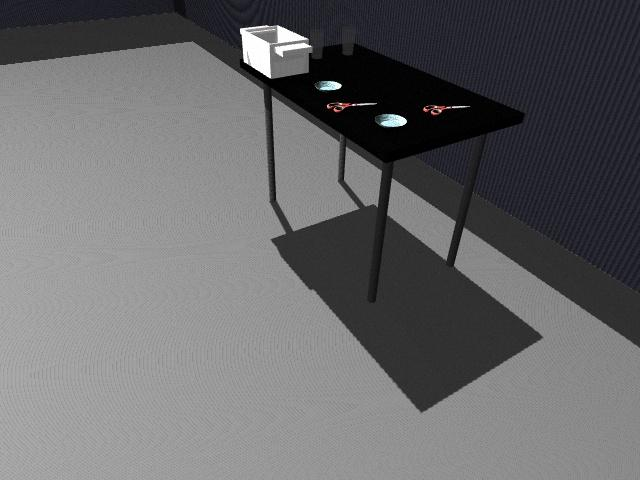cup: (309, 28, 325, 59), (341, 26, 356, 56)
plate: (374, 113, 408, 128), (314, 80, 345, 92)
scissors: (325, 100, 375, 112), (423, 104, 469, 115)
